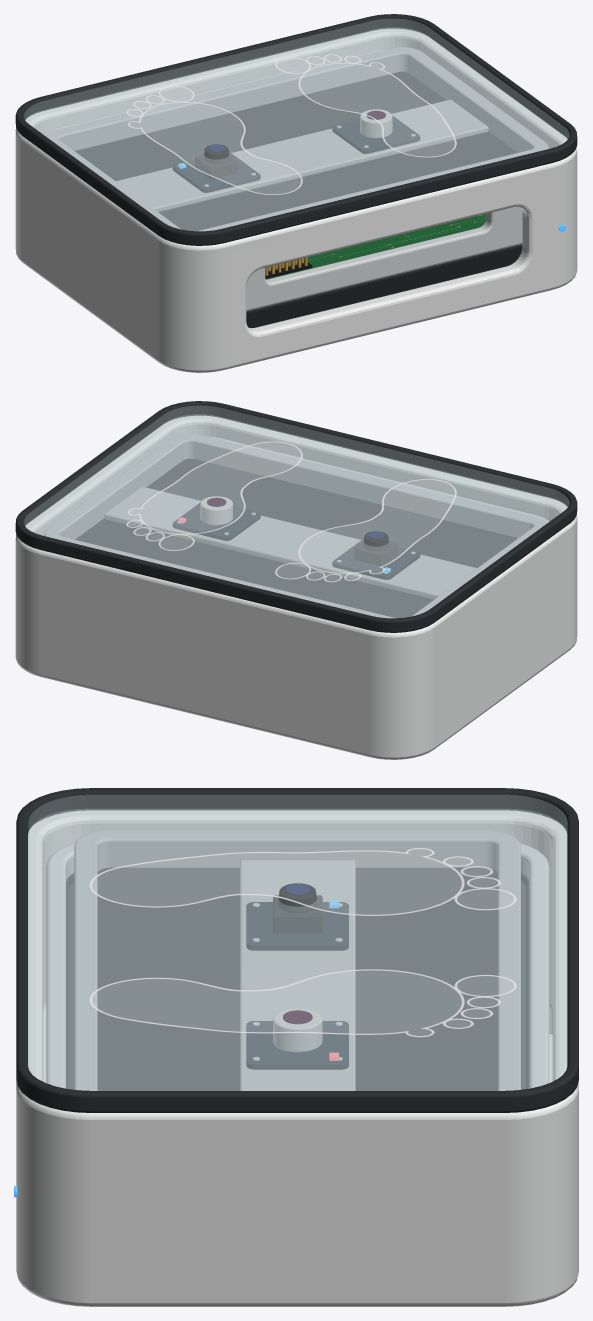
File: station.glb
The picture shows the model from 3 angles, top to bottom: view 1: azimuth 30°, elevation 25°; view 2: azimuth 150°, elevation 25°; view 3: azimuth 270°, elevation 25°; orthographic projection. The views are drawn at different scales.
Visible parts, largest first — view 1: topGlass.glass, outerShell.shell, cameras.tray, cameras.plate, topGlass.glassRim, innerFrame.tray, supports.grid, circuit.pcbTop, topGlass.footOutline, mlxCamera.camPcb, esp32Camera.camPcb, esp32Camera.chip (+1 smaller); view 2: outerShell.shell, topGlass.glass, cameras.tray, cameras.plate, topGlass.glassRim, topGlass.footOutline, mlxCamera.camPcb, esp32Camera.camPcb, esp32Camera.chip, mlxCamera.shield, innerFrame.tray; view 3: topGlass.glass, outerShell.shell, cameras.plate, cameras.tray, topGlass.glassRim, innerFrame.tray, topGlass.footOutline, mlxCamera.camPcb, esp32Camera.camPcb, insulation.insulationTop, esp32Camera.chip, insulation.insulation (+1 smaller).
Boxes of the visible parts, x1,y1,x2,y2 form: topGlass.glass: (23, 18, 569, 231); outerShell.shell: (15, 28, 577, 372); cameras.tray: (46, 47, 548, 231); cameras.plate: (75, 71, 517, 231); topGlass.glassRim: (15, 14, 577, 245); innerFrame.tray: (44, 49, 522, 311); supports.grid: (246, 244, 522, 327); circuit.pcbTop: (266, 214, 485, 279); topGlass.footOutline: (126, 54, 456, 194); mlxCamera.camPcb: (332, 116, 419, 153); esp32Camera.camPcb: (172, 152, 260, 192); esp32Camera.chip: (195, 144, 238, 179); outerShell.shell: (15, 415, 577, 759); topGlass.glass: (23, 405, 569, 618); cameras.tray: (44, 434, 546, 618); cameras.plate: (75, 458, 517, 618); topGlass.glassRim: (15, 401, 577, 632); topGlass.footOutline: (126, 441, 456, 582); mlxCamera.camPcb: (173, 503, 260, 540); esp32Camera.camPcb: (332, 539, 420, 579); esp32Camera.chip: (354, 531, 397, 565); mlxCamera.shield: (200, 496, 232, 524); innerFrame.tray: (208, 436, 548, 522); topGlass.glass: (28, 794, 567, 1090); outerShell.shell: (16, 810, 578, 1306); cameras.plate: (97, 867, 497, 1090); cameras.tray: (74, 830, 520, 1090); topGlass.glassRim: (16, 788, 578, 1112); innerFrame.tray: (46, 843, 549, 1088); topGlass.footOutline: (89, 848, 516, 1037); mlxCamera.camPcb: (246, 1021, 348, 1069); esp32Camera.camPcb: (246, 902, 348, 950); insulation.insulationTop: (69, 881, 525, 1089); esp32Camera.chip: (273, 883, 322, 933); insulation.insulation: (66, 873, 529, 1088).
Bounding box in the file's own units: 0.44 × 0.151 × 0.3415.
Materials: 35 (3 with a texture image).
